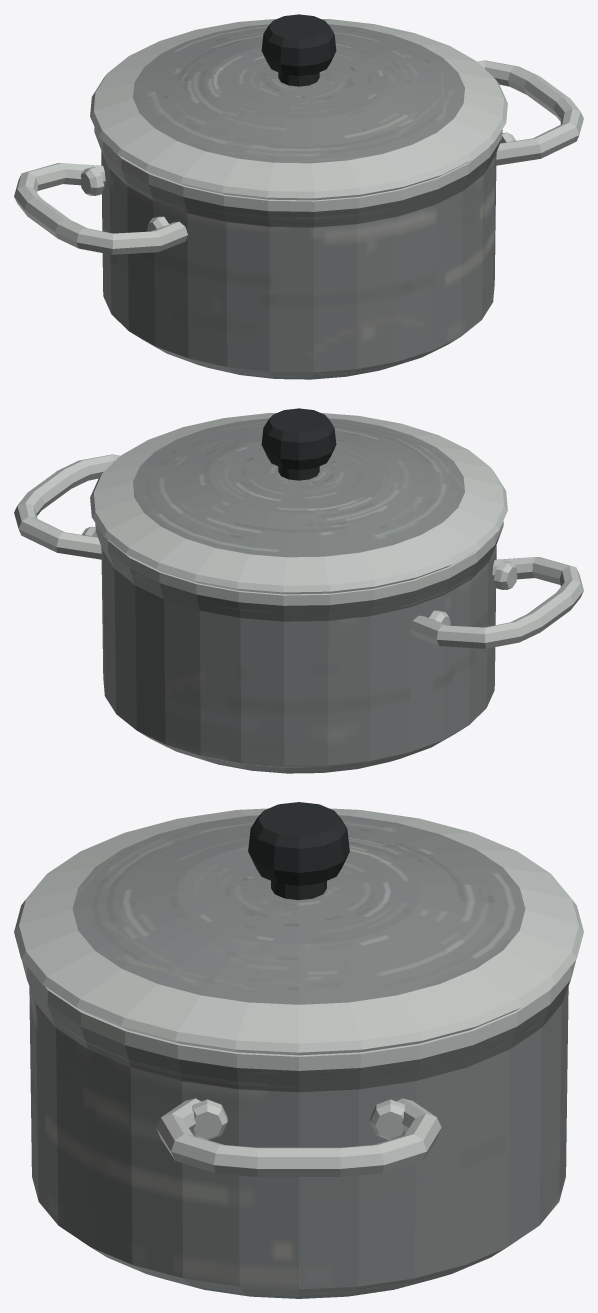
File: stock_pot.glb
3 views of the same model, one above another, from view 1: azimuth 30°, elevation 25°; view 2: azimuth 150°, elevation 25°; view 3: azimuth 270°, elevation 25° (orthographic). The views are drawn at different scales.
Parts seen in each view (by area): view 1: Deep steel vessel, Brushed domed lid, Loop grip, Loop grip.001, Bakelite lid grip, Steel rivet.001; view 2: Deep steel vessel, Brushed domed lid, Loop grip, Loop grip.001, Bakelite lid grip, Steel rivet; view 3: Deep steel vessel, Brushed domed lid, Loop grip.001, Bakelite lid grip, Steel rivet.002, Steel rivet.003.
Boxes of the visible parts, x1,y1,x2,y2 form: Deep steel vessel: (94, 127, 502, 379); Brushed domed lid: (90, 19, 507, 200); Loop grip: (14, 163, 187, 254); Loop grip.001: (478, 60, 583, 165); Bakelite lid grip: (261, 14, 336, 86); Steel rivet.001: (80, 167, 104, 195); Deep steel vessel: (95, 521, 503, 773); Brushed domed lid: (90, 413, 507, 594); Loop grip: (410, 557, 583, 648); Loop grip.001: (14, 454, 119, 559); Bakelite lid grip: (261, 408, 336, 480); Steel rivet: (493, 561, 517, 589); Deep steel vessel: (22, 960, 575, 1298); Brushed domed lid: (14, 808, 583, 1055); Loop grip.001: (156, 1098, 441, 1176); Bakelite lid grip: (248, 802, 349, 900); Steel rivet.002: (192, 1099, 227, 1140); Steel rivet.003: (370, 1099, 405, 1140).
Bounding box in the file's own units: 0.3202 × 0.168 × 0.224.
Materials: 4 (1 with a texture image).
